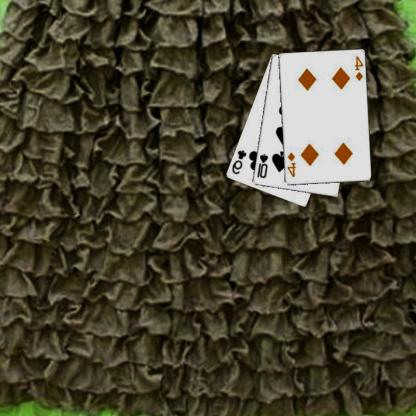10S: (256, 152, 270, 180)
4D: (286, 150, 299, 178), (353, 54, 366, 82)
6C: (231, 148, 249, 176)
